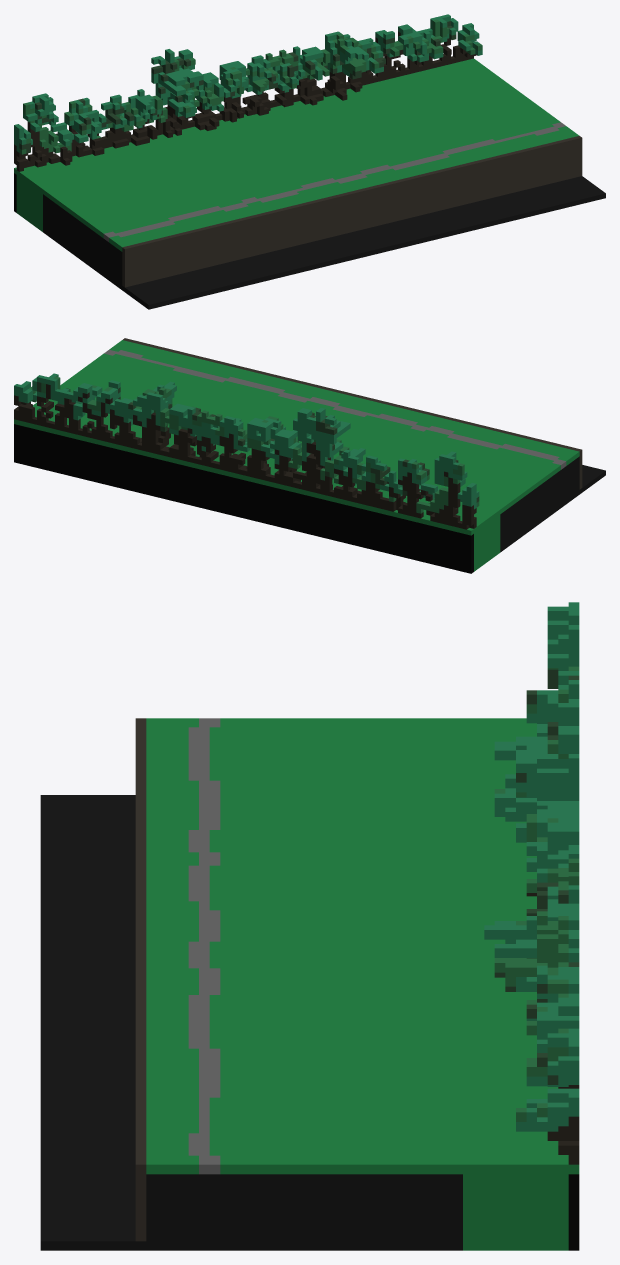
File: Park 1.obj
The picture shows the model from 3 angles, top to bottom: view 1: azimuth 30°, elevation 25°; view 2: azimuth 150°, elevation 25°; view 3: azimuth 270°, elevation 25°; orthographic projection. The views are drawn at different scales.
Parts seen in each view (by area): view 1: Park 1 update; view 2: Park 1 update; view 3: Park 1 update.
Boxes of the visible parts, left/top/right/bottom form: Park 1 update: left=14, top=14, right=605, bottom=309; Park 1 update: left=14, top=338, right=605, bottom=573; Park 1 update: left=40, top=602, right=579, bottom=1250.
Size of the model in its own units: 100 by 26 by 51.
